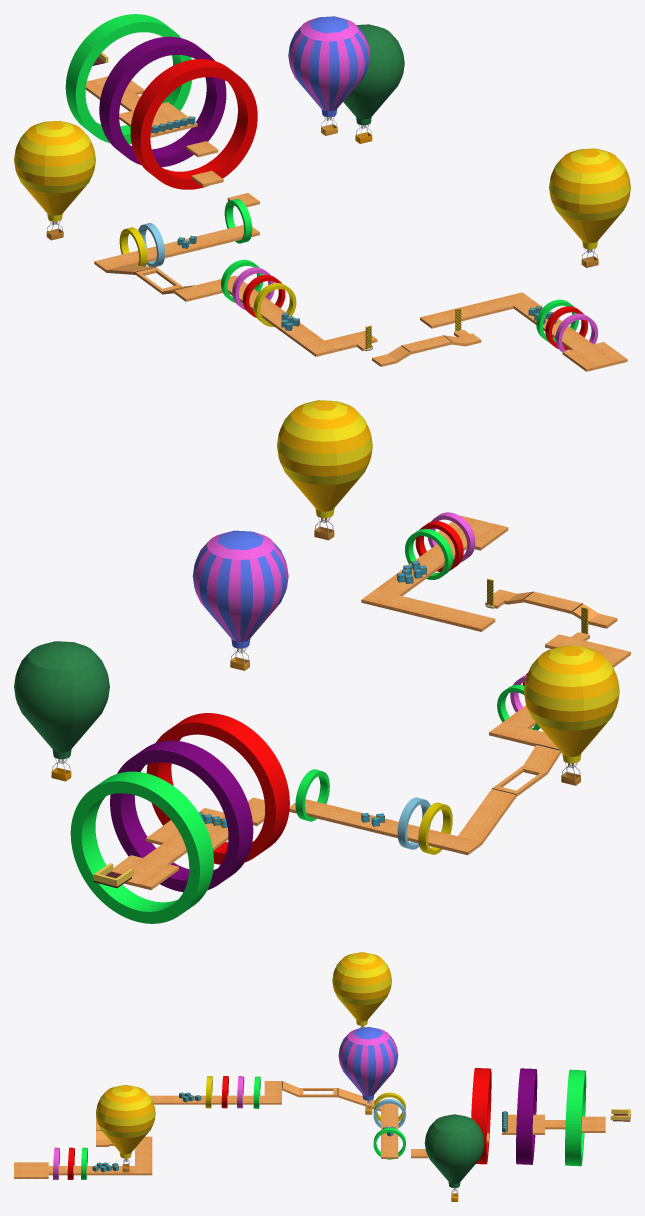
The model's file is LEVEL 26.fbx.
3 views of the same model, one above another, from view 1: azimuth 30°, elevation 25°; view 2: azimuth 150°, elevation 25°; view 3: azimuth 270°, elevation 25° (orthographic). The views are drawn at different scales.
Parts seen in each view (by area): view 1: Floors_Combined, red__1_, ballon_, ballon_3, ballon___2_, purple__1_, green__2_, ballon___1_, green__4_, yellow, yllow, red (+6 smaller); view 2: Floors_Combined, green__2_, ballon_3, ballon___1_, ballon___2_, ballon_, purple__1_, red__1_, yllow, green__4_, green, RED (+1 smaller); view 3: Floors_Combined, ballon___1_, ballon_3, ballon___2_, ballon_, green__2_, purple__1_, red__1_.
Boxes of the visible parts, left/top/right/bottom form: Floors_Combined: left=85, top=76, right=627, bottom=371; red__1_: left=130, top=59, right=257, bottom=189; ballon_: left=14, top=120, right=95, bottom=240; ballon_3: left=549, top=148, right=630, bottom=267; ballon___2_: left=288, top=16, right=370, bottom=135; purple__1_: left=99, top=36, right=226, bottom=167; green__2_: left=65, top=14, right=192, bottom=144; ballon___1_: left=343, top=24, right=404, bottom=143; green__4_: left=224, top=199, right=252, bottom=243; yellow: left=253, top=283, right=296, bottom=326; yllow: left=119, top=227, right=147, bottom=266; red: left=242, top=275, right=285, bottom=317; Floors_Combined: left=111, top=515, right=630, bottom=890; green__2_: left=70, top=771, right=213, bottom=923; ballon_3: left=277, top=400, right=372, bottom=540; ballon___1_: left=14, top=641, right=109, bottom=781; ballon___2_: left=192, top=530, right=288, bottom=670; ballon_: left=524, top=645, right=619, bottom=785; purple__1_: left=110, top=740, right=253, bottom=891; red__1_: left=146, top=713, right=289, bottom=864; yllow: left=418, top=802, right=452, bottom=854; green__4_: left=295, top=769, right=329, bottom=821; green: left=405, top=528, right=452, bottom=579; RED: left=415, top=521, right=463, bottom=571; Floors_Combined: left=14, top=1081, right=605, bottom=1178; ballon___1_: left=424, top=1114, right=484, bottom=1201; ballon_3: left=96, top=1085, right=155, bottom=1172; ballon___2_: left=338, top=1027, right=398, bottom=1114; ballon_: left=332, top=952, right=391, bottom=1027; green__2_: left=565, top=1069, right=586, bottom=1166; purple__1_: left=516, top=1068, right=537, bottom=1164; red__1_: left=471, top=1068, right=491, bottom=1164.
Bounding box in the file's own units: 8654 × 4012 × 14280.
Materials: 30 (15 with a texture image).
